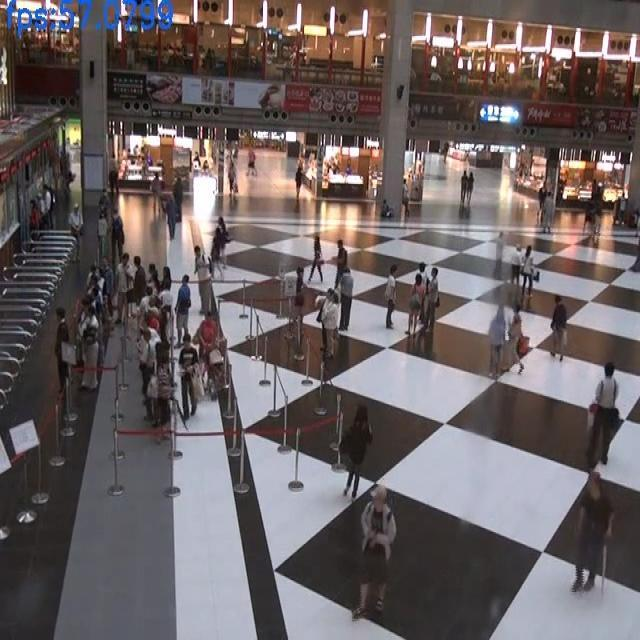abandoned-object: (513, 326, 531, 365)
